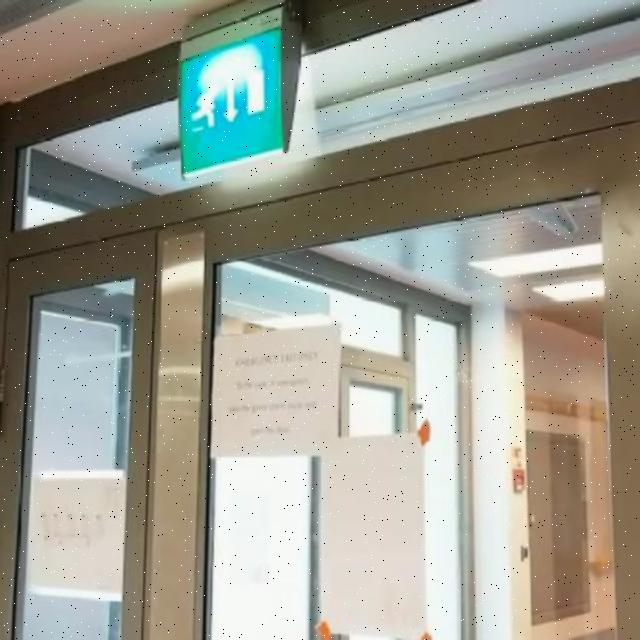emergency_exit: (176, 4, 302, 179)
